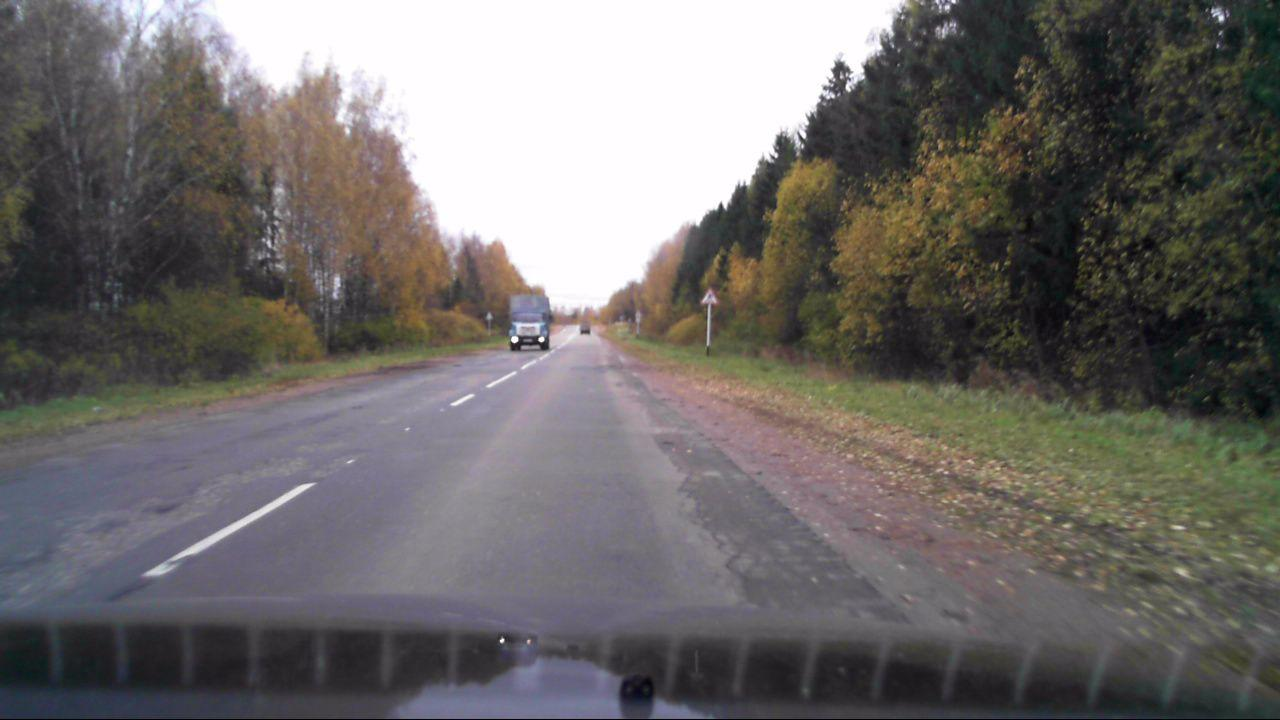1_22: (699, 288, 719, 306)
